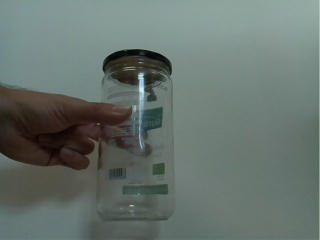pote cristal: (90, 46, 184, 229)
